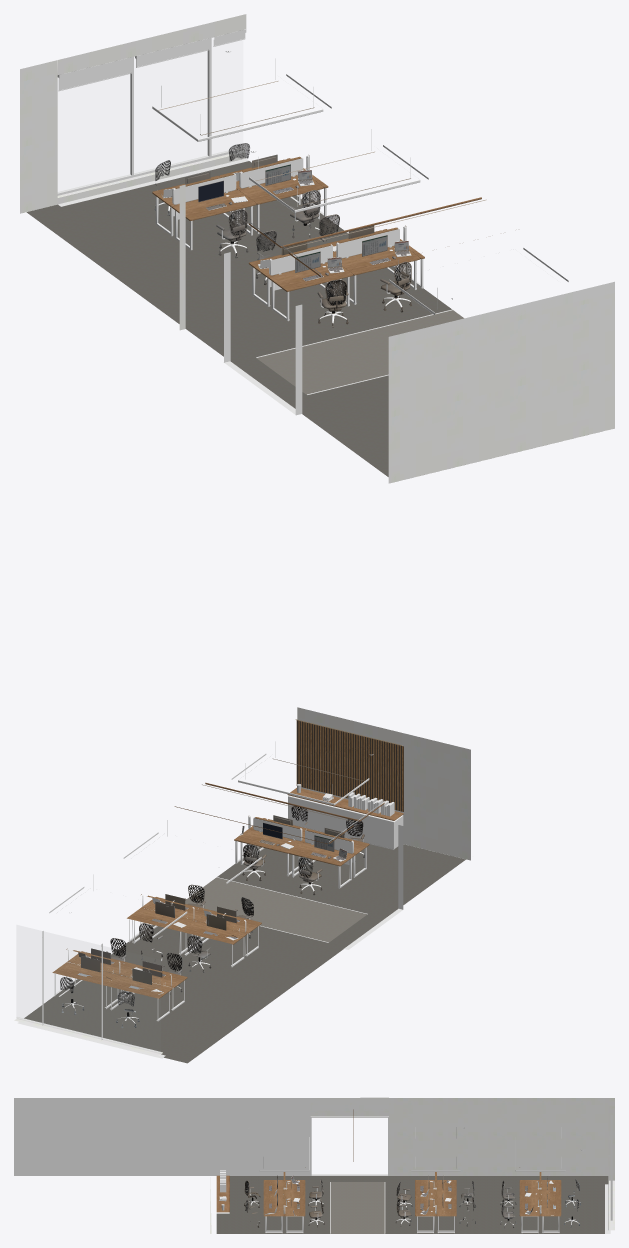
The model's file is z-open_w-lite.full.21015c43.glb.
3 renders of one model, top to bottom at view 1: azimuth 30°, elevation 25°; view 2: azimuth 150°, elevation 25°; view 3: azimuth 270°, elevation 25°, orthographic. The views are drawn at different scales.
Parts seen in each view (by area): view 1: open_w_plaster, open_w_carpet, open_w_satin, open_w_oak, open_w_fx, open_w_emit, open_w_metal_lit; view 2: open_w_carpet, open_w_plaster, open_w_satin, open_w_oak, open_w_proxy_slat, open_w_fx, open_w_metal_lit, open_w_emit; view 3: open_w_satin, open_w_plaster, open_w_carpet, open_w_oak, open_w_fx, open_w_metal_lit.
Part boxes in pixels (bbox=[...]): open_w_plaster: bbox=[20, 14, 614, 483]; open_w_carpet: bbox=[26, 161, 463, 476]; open_w_satin: bbox=[57, 29, 568, 415]; open_w_oak: bbox=[152, 155, 481, 291]; open_w_fx: bbox=[154, 143, 411, 327]; open_w_emit: bbox=[158, 81, 486, 272]; open_w_metal_lit: bbox=[61, 51, 411, 414]; open_w_carpet: bbox=[24, 844, 465, 1063]; open_w_plaster: bbox=[14, 707, 470, 1055]; open_w_satin: bbox=[16, 741, 403, 1058]; open_w_oak: bbox=[52, 782, 403, 998]; open_w_proxy_slat: bbox=[296, 720, 403, 811]; open_w_fx: bbox=[60, 806, 364, 1027]; open_w_metal_lit: bbox=[57, 826, 403, 1055]; open_w_emit: bbox=[179, 719, 402, 911]; open_w_satin: bbox=[14, 1098, 612, 1233]; open_w_plaster: bbox=[210, 1097, 614, 1233]; open_w_carpet: bbox=[216, 1176, 608, 1233]; open_w_oak: bbox=[216, 1109, 561, 1216]; open_w_fx: bbox=[244, 1175, 580, 1227]; open_w_metal_lit: bbox=[249, 1149, 605, 1233].
Bounding box in the file's own units: 5.4 × 3.35 × 23.
10 materials, 6 textured.
